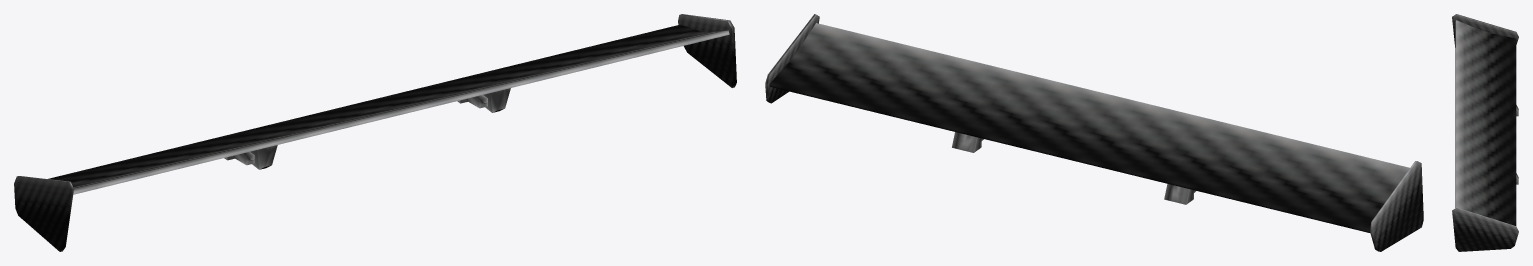
File: spl_b_mar_m.glb
The picture shows the model from 3 angles, left to right: view 1: azimuth 30°, elevation 25°; view 2: azimuth 150°, elevation 25°; view 3: azimuth 270°, elevation 25°; orthographic projection. The views are drawn at different scales.
Parts seen in each view (by area): view 1: spl_b_mar_m; view 2: spl_b_mar_m; view 3: spl_b_mar_m.
Boxes of the visible parts, bbox=[...] form: spl_b_mar_m: bbox=[14, 14, 736, 251]; spl_b_mar_m: bbox=[765, 14, 1423, 251]; spl_b_mar_m: bbox=[1452, 14, 1518, 251].
Bounding box in the file's own units: 1.71 × 0.1693 × 0.2439.
2 materials, 2 textured.
